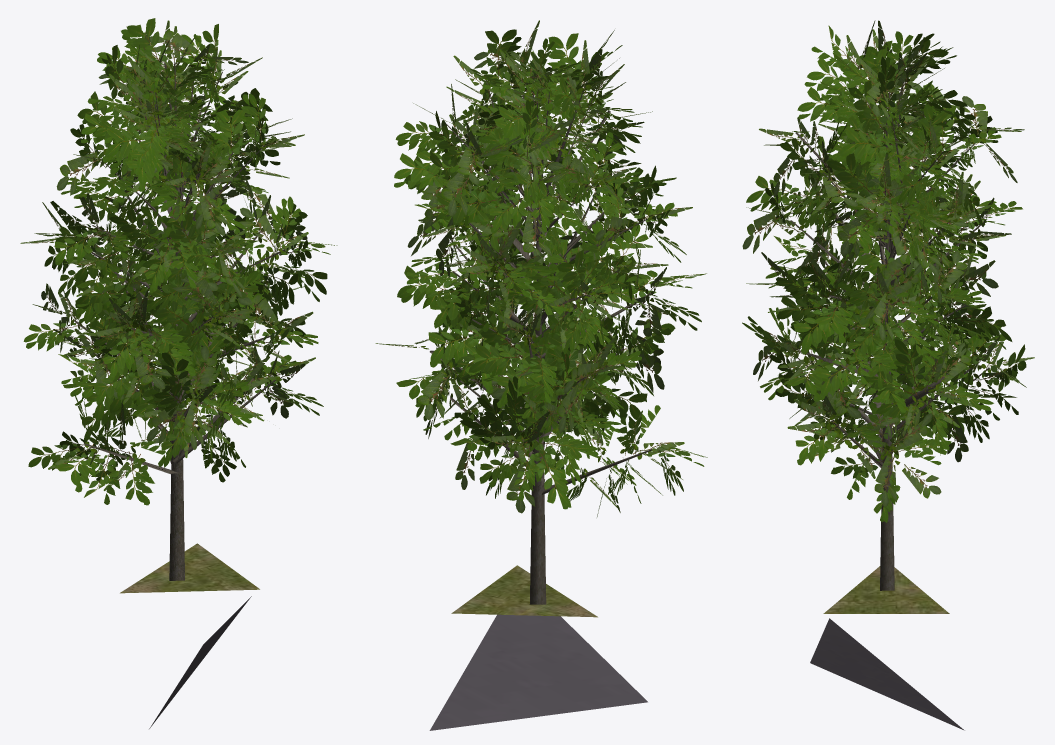
Rendered from cargo_potted_tree_far.glb.
3 renders of one model, left to right at view 1: azimuth 30°, elevation 25°; view 2: azimuth 150°, elevation 25°; view 3: azimuth 270°, elevation 25°, orthographic. The views are drawn at different scales.
Visible parts, largest first — view 1: KB3D_NSF_PropPottedTree_A_SmallTree, KB3D_NSF_PropPottedTree_A_Pot; view 2: KB3D_NSF_PropPottedTree_A_SmallTree, KB3D_NSF_PropPottedTree_A_Pot; view 3: KB3D_NSF_PropPottedTree_A_SmallTree, KB3D_NSF_PropPottedTree_A_Pot.
Boxes of the visible parts, box(x1,y1,x2,y2) form: KB3D_NSF_PropPottedTree_A_SmallTree: box(20, 18, 337, 580); KB3D_NSF_PropPottedTree_A_Pot: box(120, 543, 259, 728); KB3D_NSF_PropPottedTree_A_SmallTree: box(375, 20, 707, 604); KB3D_NSF_PropPottedTree_A_Pot: box(429, 565, 647, 730); KB3D_NSF_PropPottedTree_A_SmallTree: box(742, 20, 1034, 590); KB3D_NSF_PropPottedTree_A_Pot: box(810, 566, 964, 730).
Size of the model in its own units: 1.25 by 2.82 by 1.16.
Materials: 4 (4 with a texture image).
